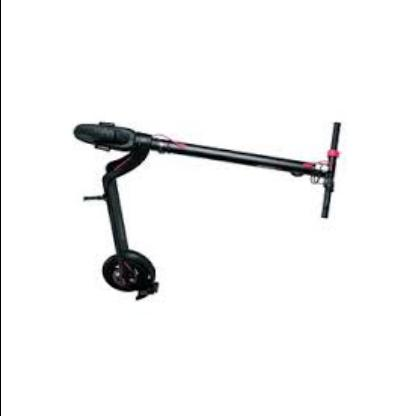bike: (72, 120, 343, 301)
